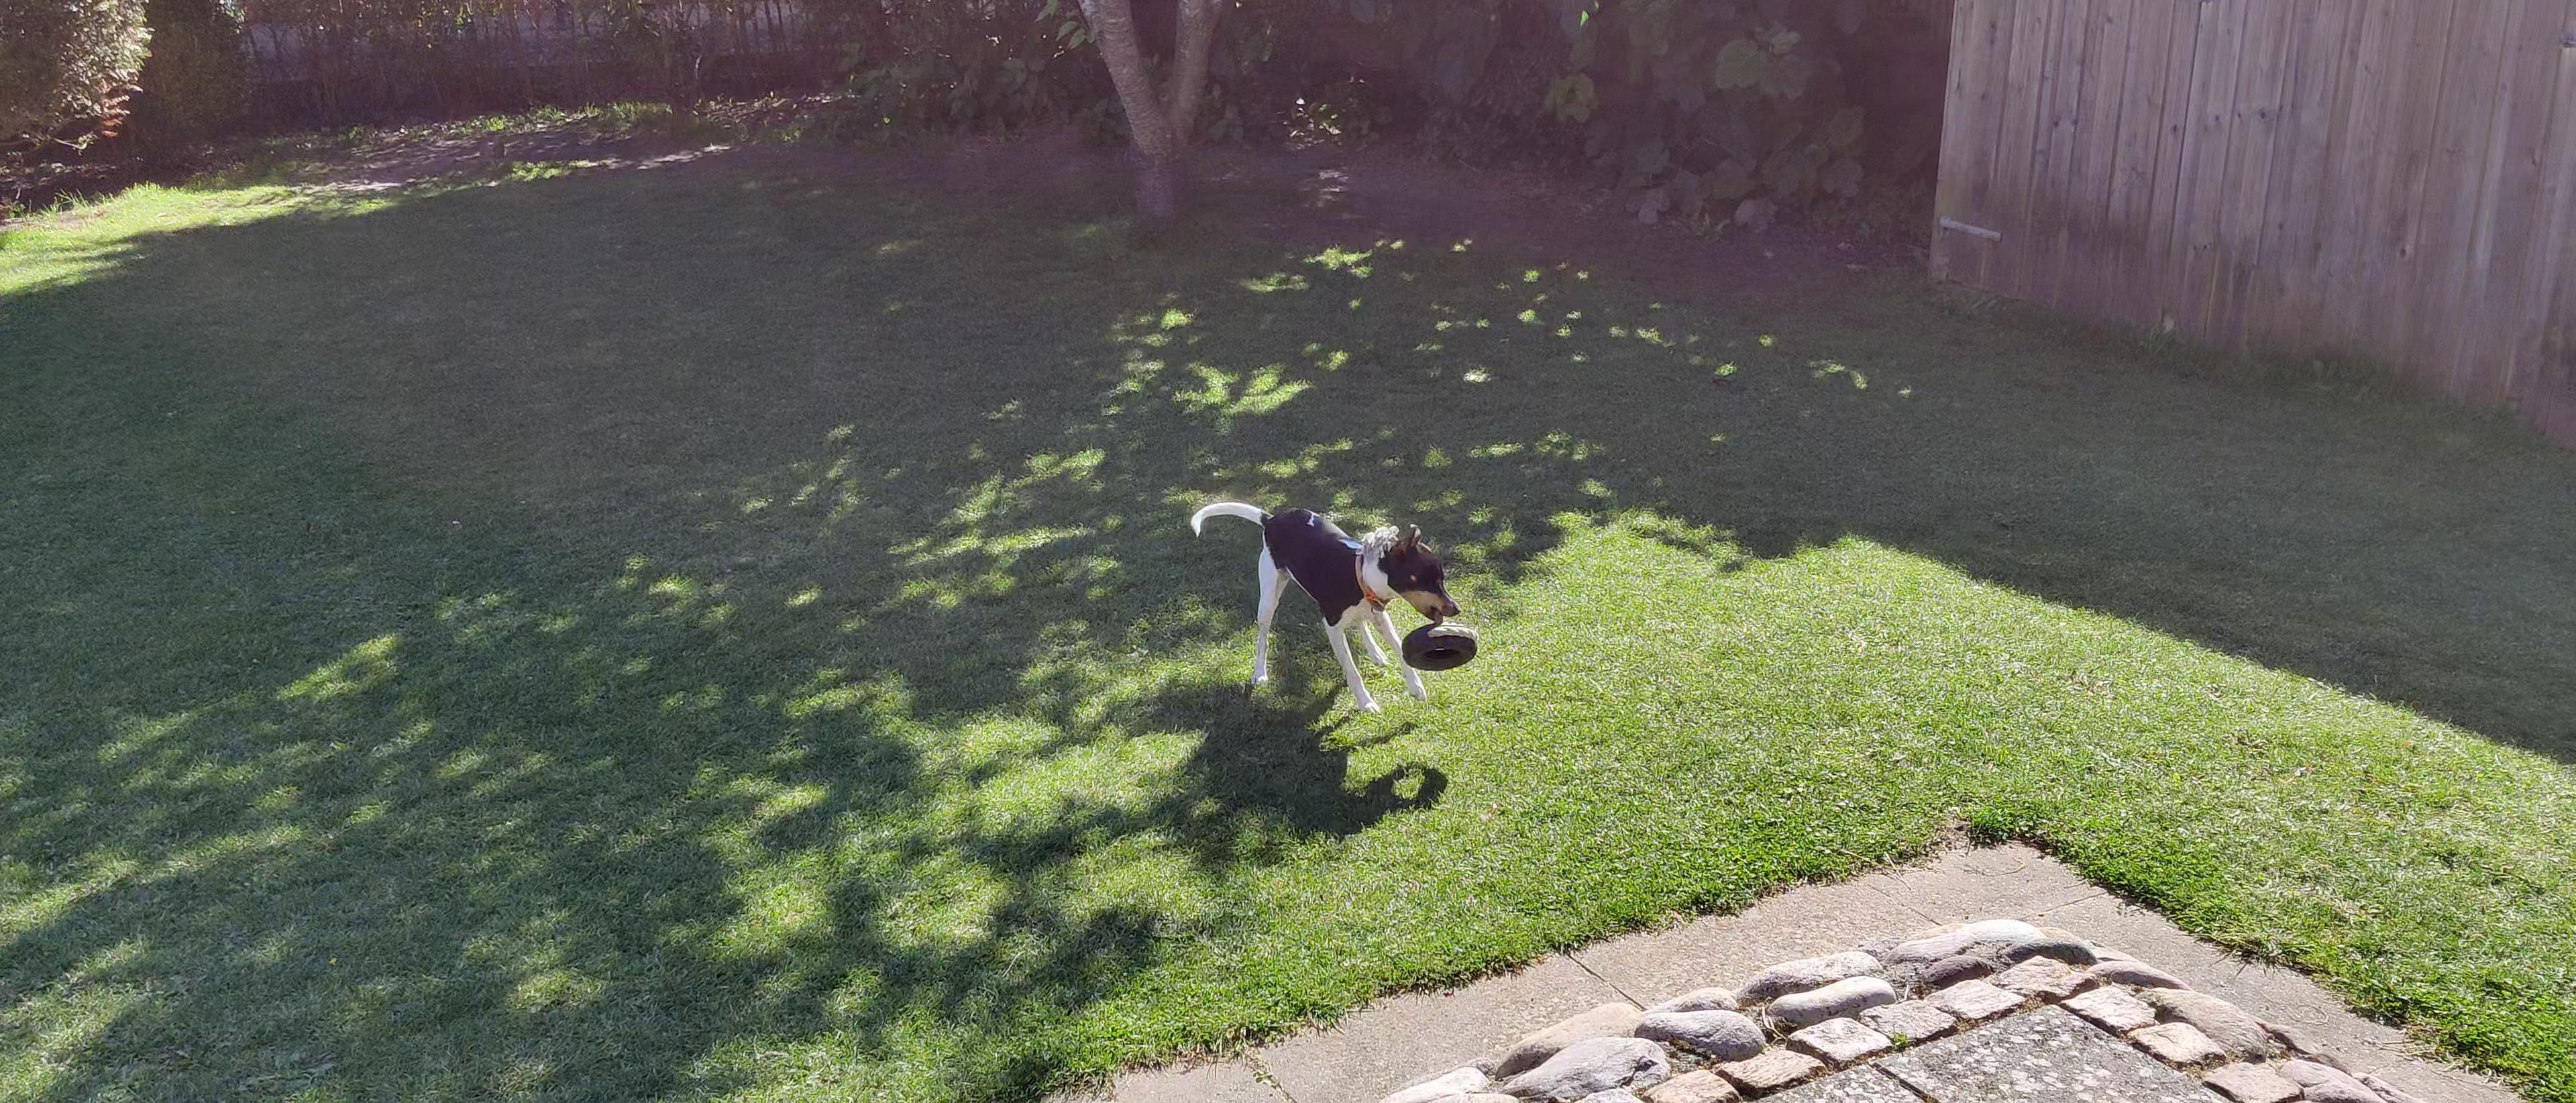Dog: (1181, 496, 1465, 720)
